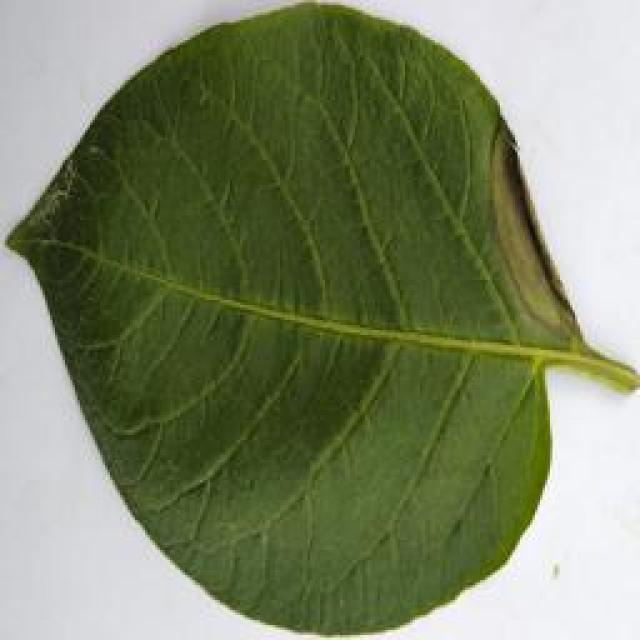Potato_Late_Blight: (2, 8, 623, 628)
